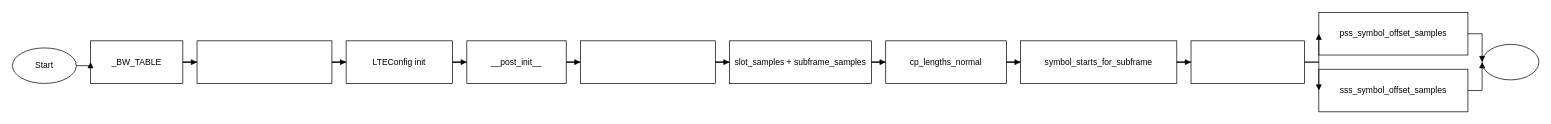
Image size: 1551x124. Some labels were removed from this diagram. The centre of each missing label's shape, as x and y in pixels:
_normal_cp_for_nfft: pixel 647 61
_symbol_lengths: pixel 1247 61
candidate_lte_configs: pixel 264 61
End: pixel 1510 62
